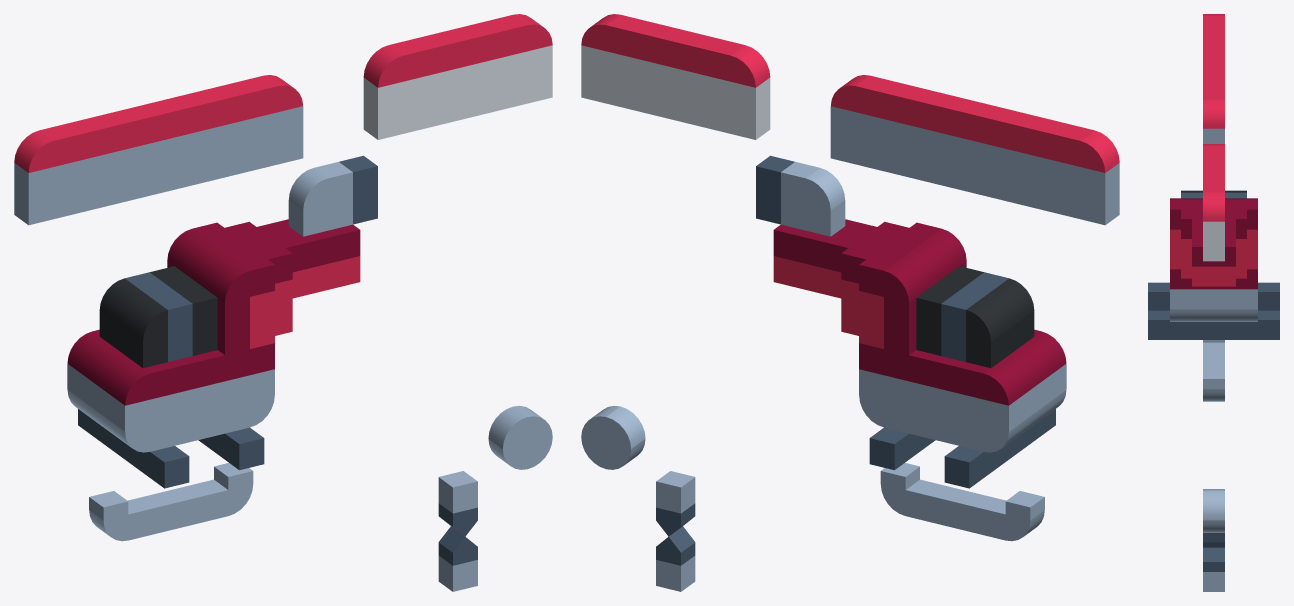
The picture shows the model from 3 angles, left to right: view 1: azimuth 30°, elevation 25°; view 2: azimuth 150°, elevation 25°; view 3: azimuth 270°, elevation 25°; orthographic projection. The views are drawn at different scales.
Parts seen in each view (by area): view 1: generated; view 2: generated; view 3: generated.
Boxes of the visible parts, left/top/right/bottom form: generated: left=14, top=14, right=552, bottom=591; generated: left=581, top=14, right=1119, bottom=591; generated: left=1148, top=14, right=1279, bottom=591.
Bounding box in the file's own units: 21 × 21 × 6.
Materials: 1 (1 with a texture image).
